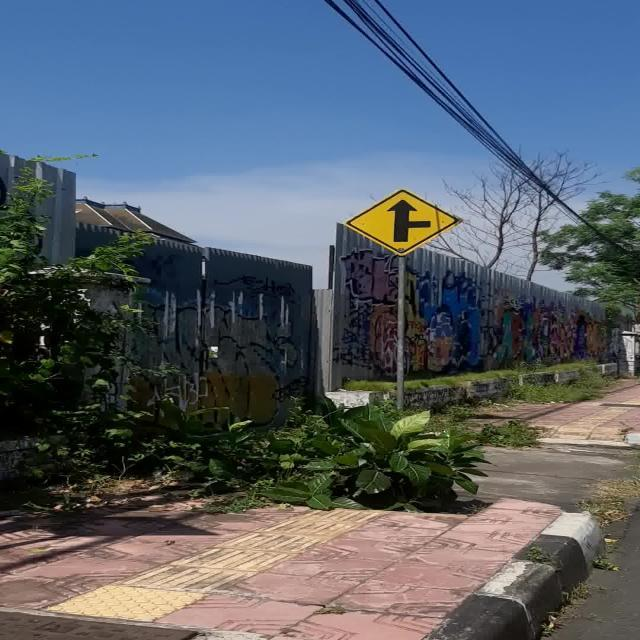Persimpangan 3 Prioritas Kanan: (344, 188, 463, 256)
